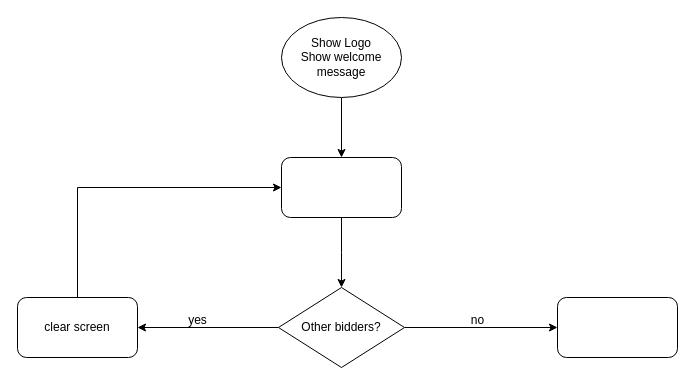
Image size: 695x385. Some labels were removed from this diagram. Each missing label, with the box of its shape:
Ask for name Ask for Bid Save them: (280, 156, 402, 218)
declare the winner (highest bid): (556, 296, 678, 358)
